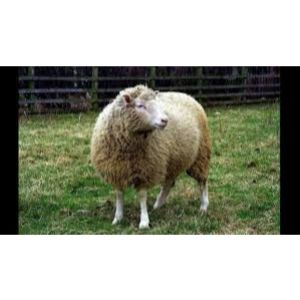sheep: (89, 82, 212, 230)
